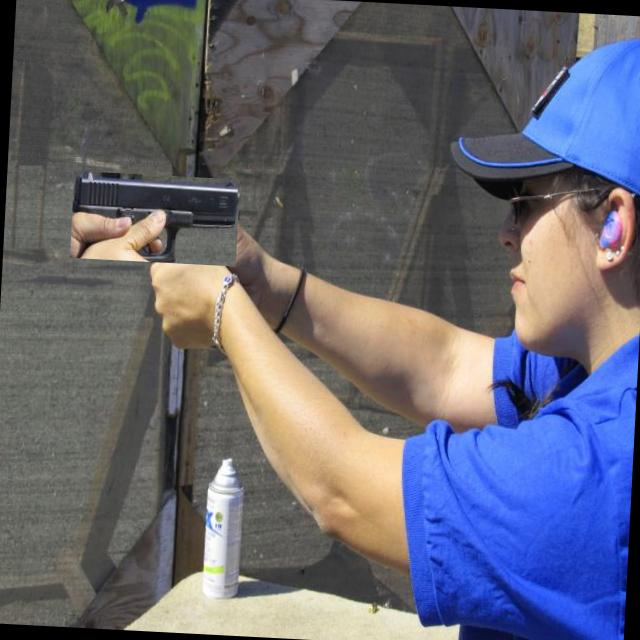Gun: (72, 172, 239, 262)
